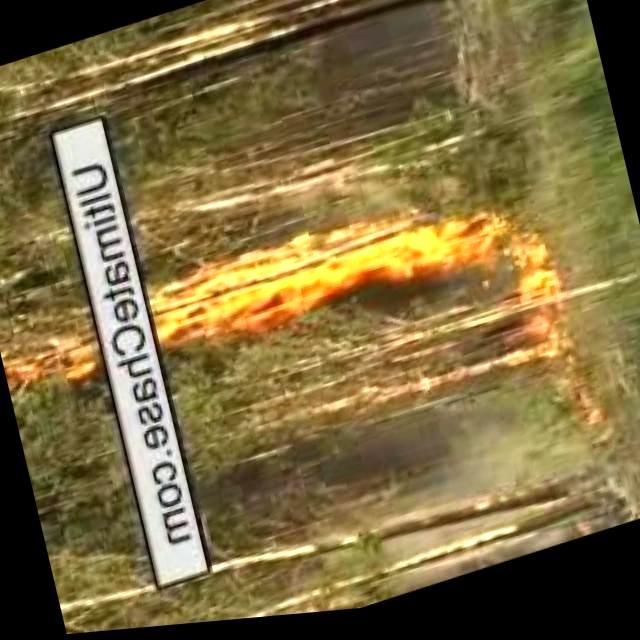fire: (153, 216, 420, 358), (417, 189, 563, 351), (11, 328, 97, 396)
